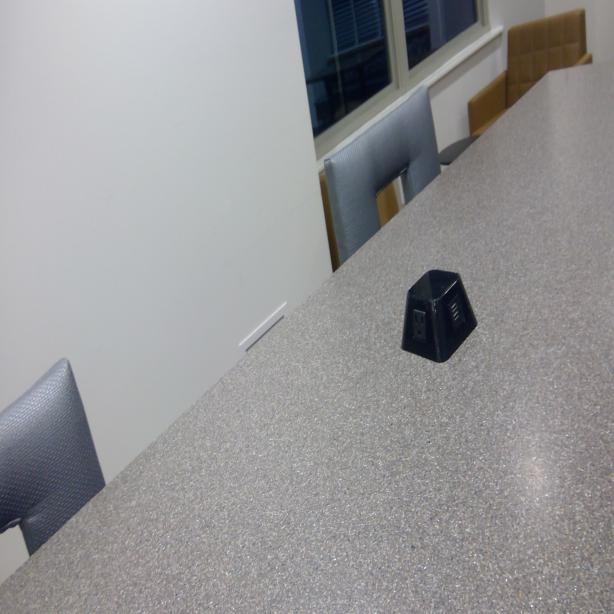typeb: (411, 310, 426, 344)
